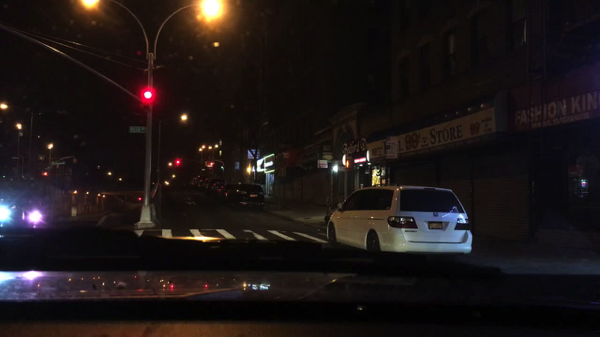car: (325, 183, 473, 263), (0, 196, 47, 232), (227, 181, 267, 212), (204, 177, 226, 197), (210, 182, 232, 199), (194, 174, 212, 190), (196, 178, 206, 190), (187, 177, 197, 187)
traffic light: (143, 88, 153, 109), (345, 158, 354, 169), (41, 170, 49, 177), (72, 158, 78, 165), (176, 158, 180, 166), (207, 162, 215, 166), (138, 197, 142, 202)
traffic sign: (127, 125, 147, 135), (52, 161, 64, 166), (11, 155, 21, 160)
